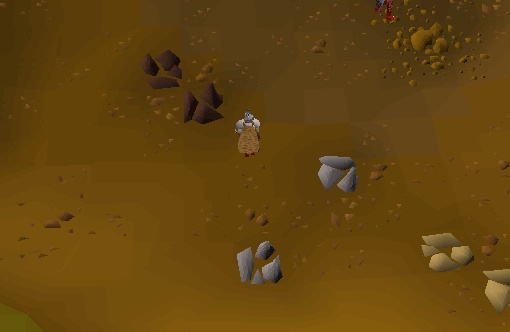clay: (417, 224, 483, 279)
iron: (175, 78, 232, 137), (134, 41, 191, 100)
tin: (309, 145, 366, 199), (231, 236, 288, 290)
